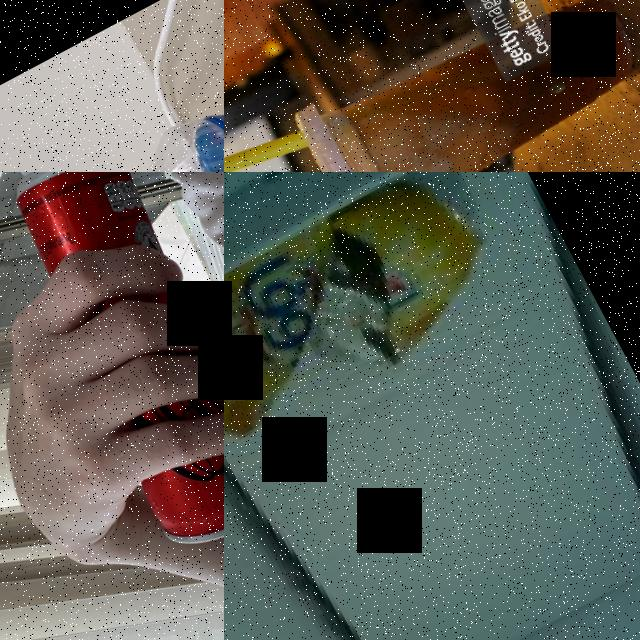bottle: (95, 49, 224, 172)
can: (0, 172, 224, 568)
cup: (285, 0, 640, 172)
